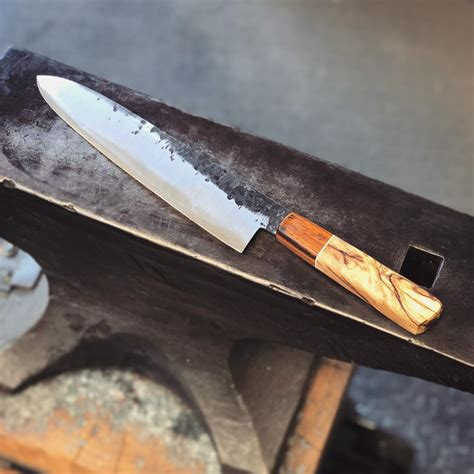knife: (34, 72, 448, 338)
